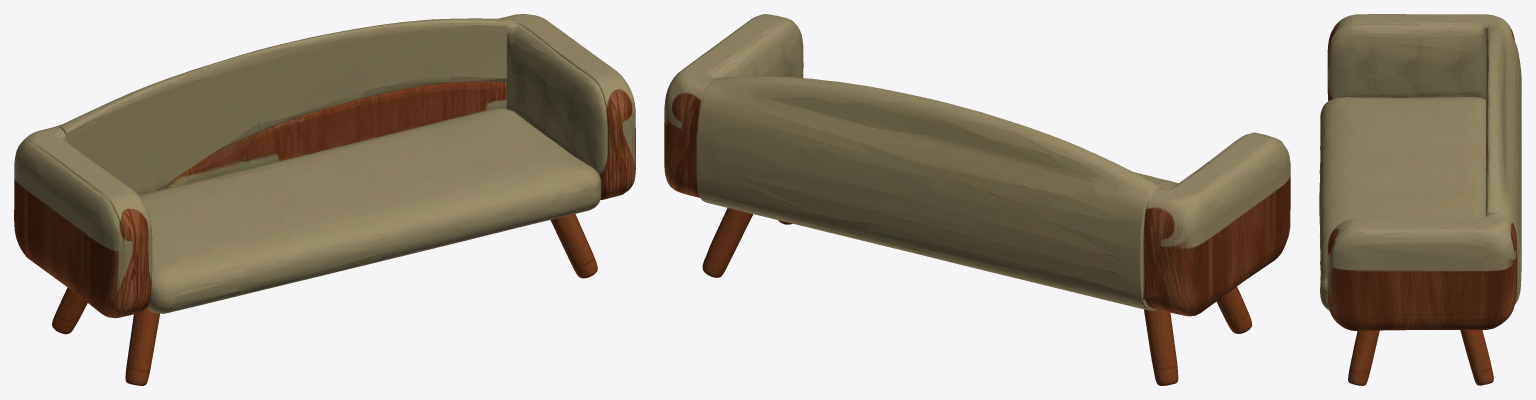
Rendered from hall-bench.glb.
3 views of the same model, side by side, from view 1: azimuth 30°, elevation 25°; view 2: azimuth 150°, elevation 25°; view 3: azimuth 270°, elevation 25° (orthographic). The views are drawn at different scales.
Bounding box in the file's own units: 1.9 × 0.7928 × 0.7294.
Materials: 1 (1 with a texture image).
